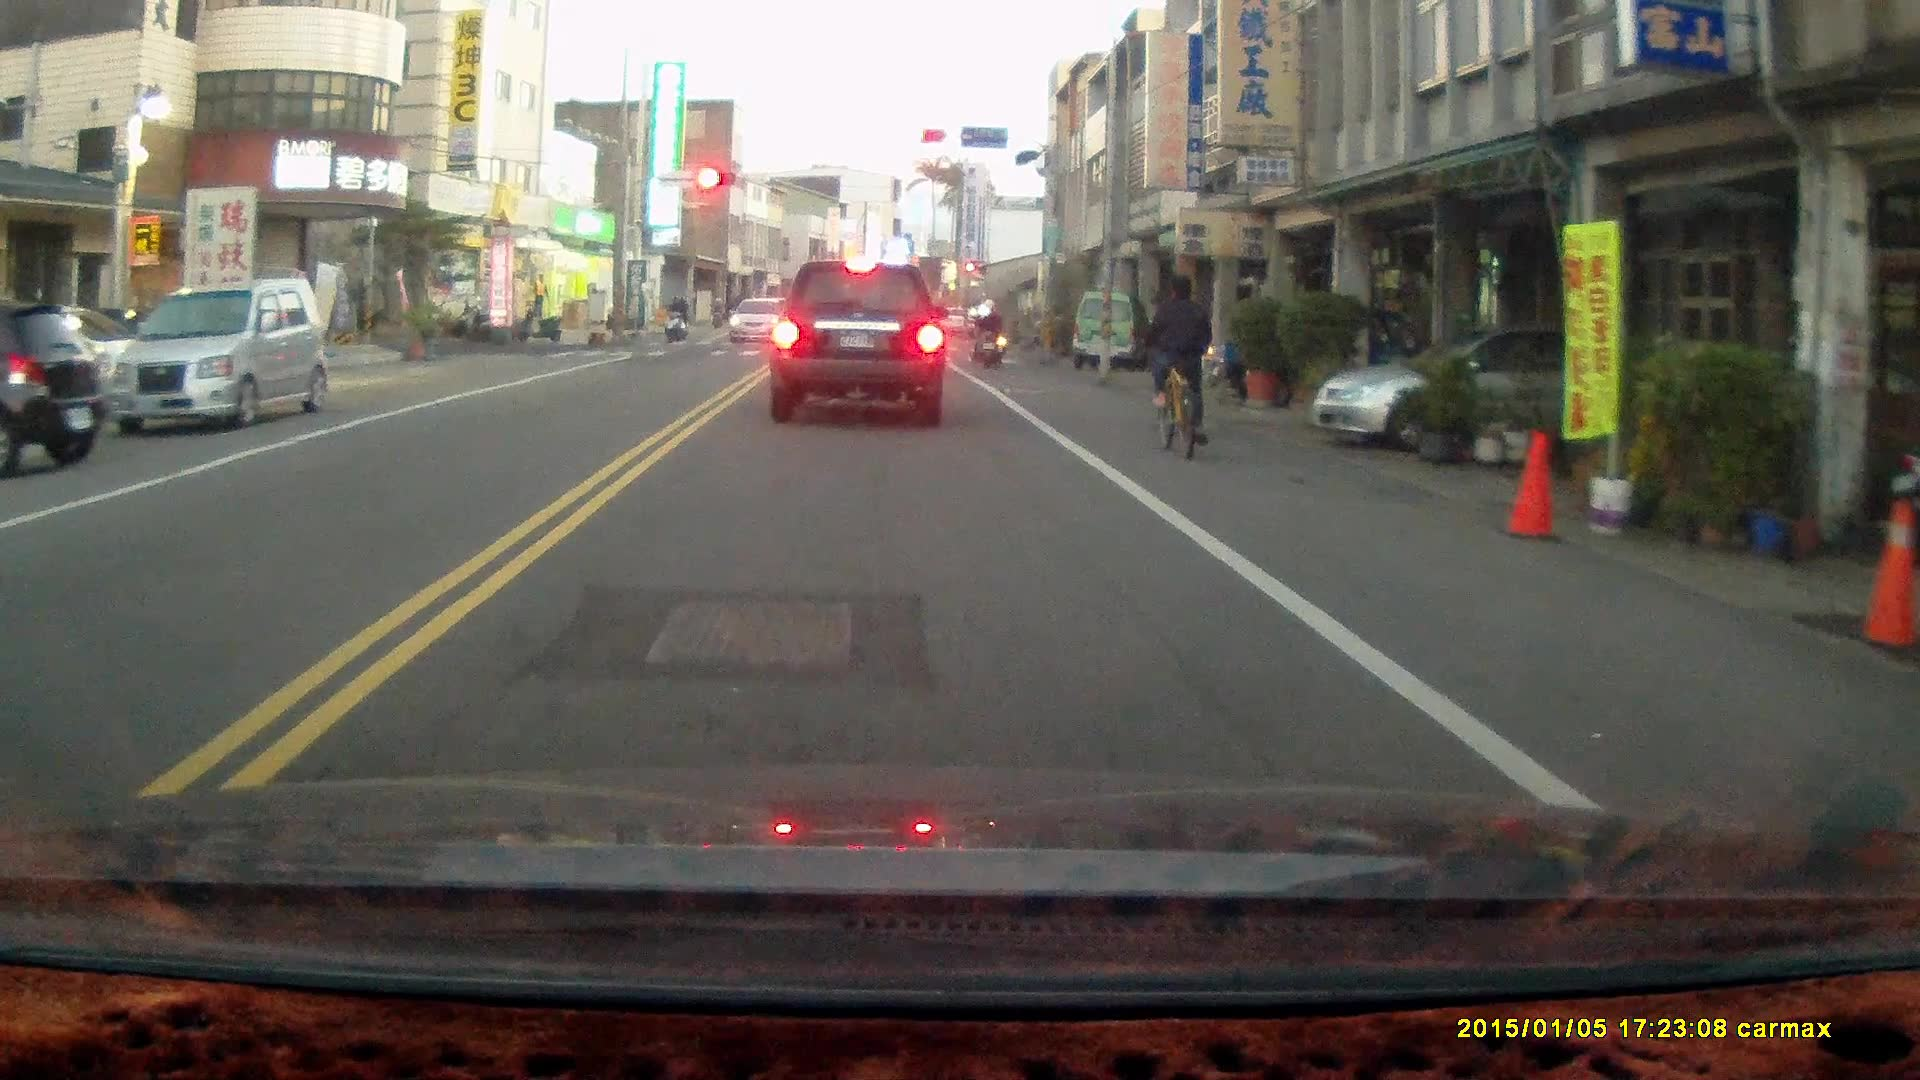pedestrian: (529, 271, 549, 318)
rider: (1143, 269, 1213, 457), (970, 294, 1008, 367), (662, 293, 688, 344)
vehicle: (1314, 317, 1692, 446), (98, 275, 334, 437), (766, 257, 951, 430), (1, 294, 108, 479), (1072, 290, 1151, 369)
